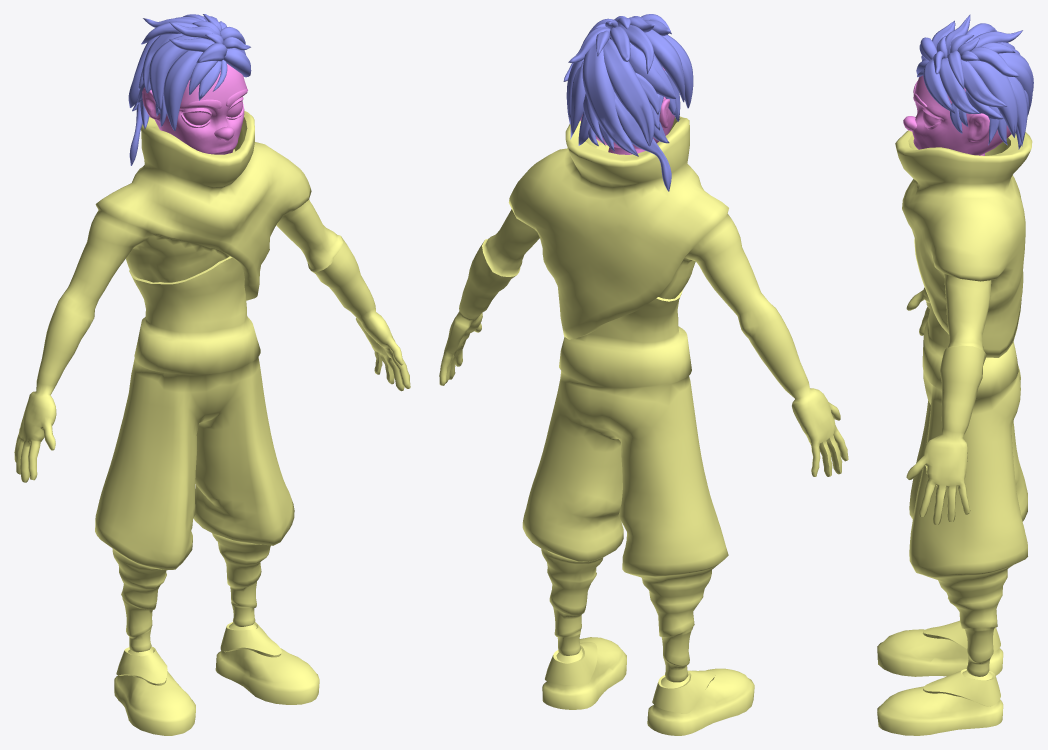
Rendered from Character_low (1).FBX.
3 views of the same model, side by side, from view 1: azimuth 30°, elevation 25°; view 2: azimuth 150°, elevation 25°; view 3: azimuth 270°, elevation 25° (orthographic). The views are drawn at different scales.
Parts seen in each view (by area): view 1: Body_low, Hair_low, Head_low; view 2: Body_low, Hair_low; view 3: Body_low, Hair_low, Head_low.
Boxes of the visible parts, x1,y1,x2,y2 form: Body_low: (14,111,410,735); Hair_low: (128,14,251,165); Head_low: (142,64,247,154); Body_low: (439,116,848,735); Hair_low: (563,14,693,191); Body_low: (877,130,1032,735); Hair_low: (916,14,1033,149); Head_low: (903,75,1011,155).
Size of the model in its own units: 187 by 313 by 66.83.
